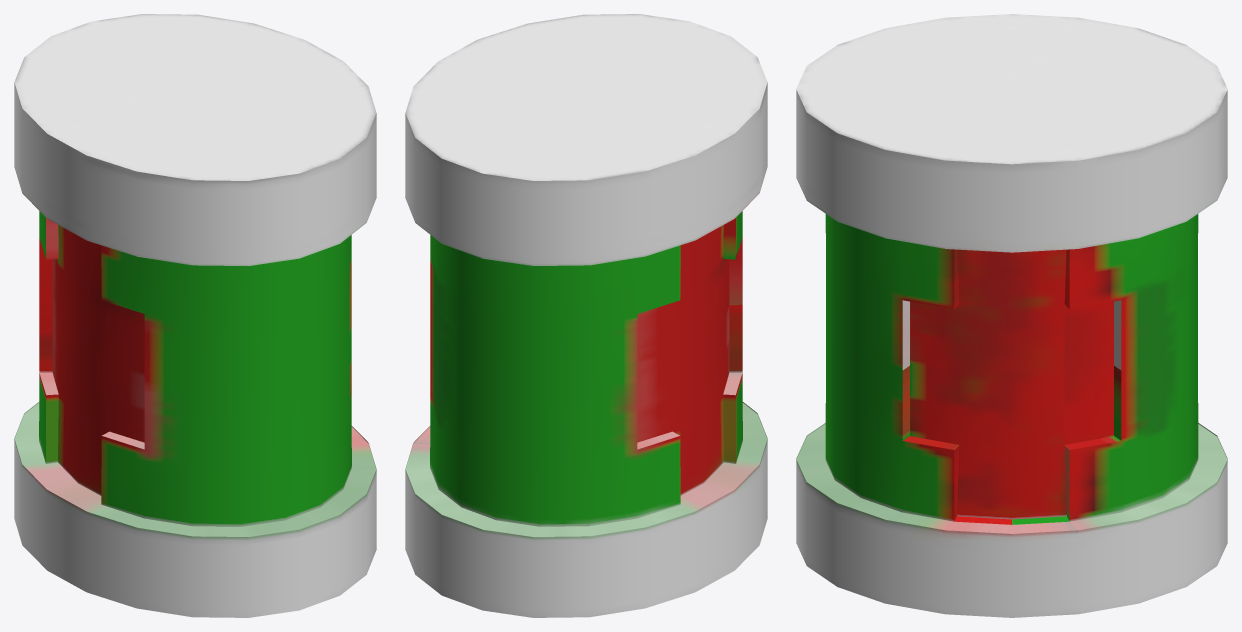
File: Health.fbx
3 renders of one model, left to right at view 1: azimuth 30°, elevation 25°; view 2: azimuth 150°, elevation 25°; view 3: azimuth 270°, elevation 25°, orthographic. The views are drawn at different scales.
Parts seen in each view (by area): view 1: pCylinder2; view 2: pCylinder2; view 3: pCylinder2.
Part boxes in pixels (bbox=[...]): pCylinder2: bbox=[14, 14, 376, 617]; pCylinder2: bbox=[405, 14, 767, 617]; pCylinder2: bbox=[796, 14, 1227, 617].
Bounding box in the file's own units: 2 × 2.82 × 2.43.
